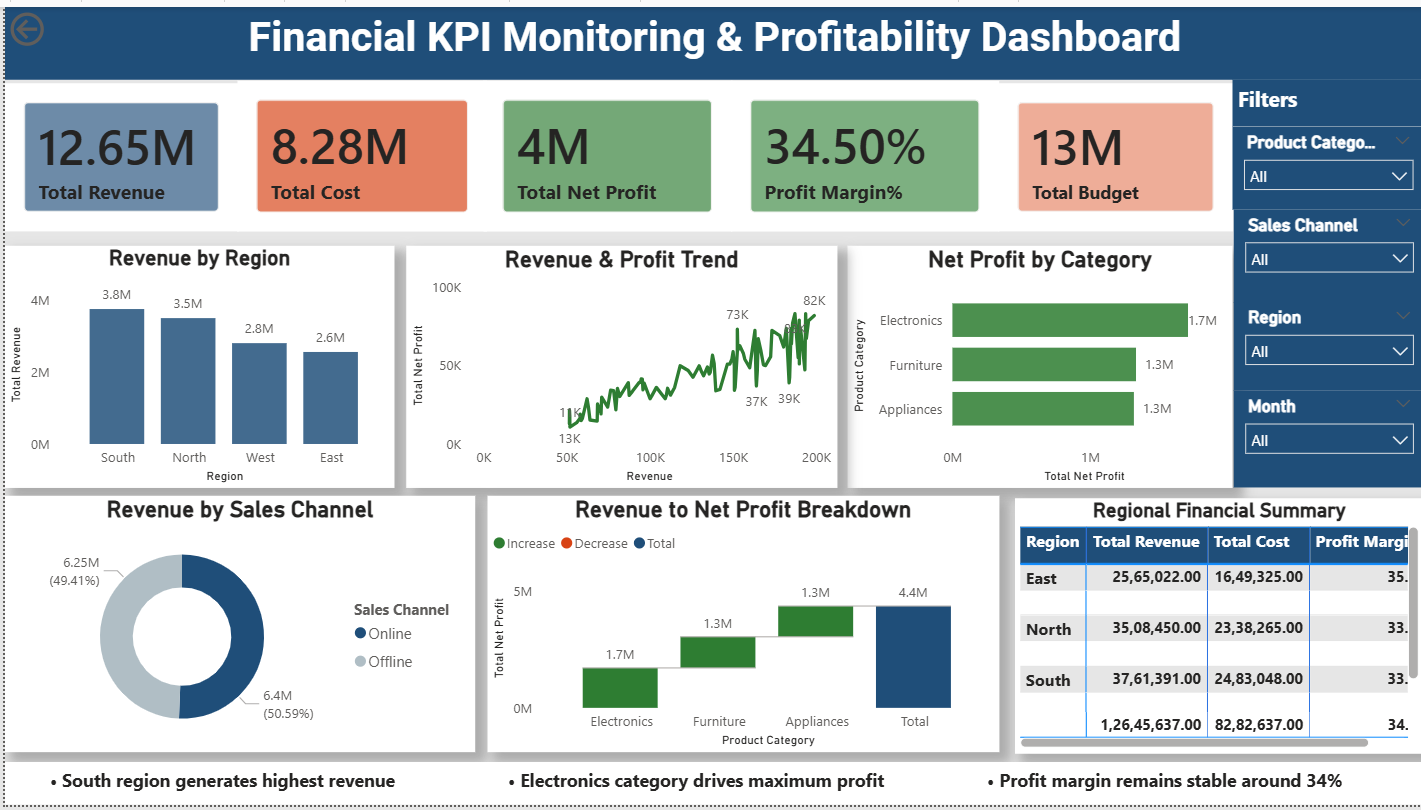

What the dashboard file says about the page in this screenshot:
{"tool":"powerbi","page":{"name":"Page 1","canvas":[1280,720],"ordinal":0},"visuals":[{"type":"textbox","box":[0,0,1280.3,65.9],"z":0},{"type":"cardVisual","fields":{"Data":["Financial_Data.Total Revenue"]},"box":[0,68.8,210,133.8],"z":1000},{"type":"cardVisual","fields":{"Data":["Financial_Data.Total Net Profit"]},"box":[431.2,66.2,223.8,136.2],"z":2000},{"type":"cardVisual","fields":{"Data":["Financial_Data.Profit Margin % Measure"]},"box":[655,66.2,241.2,136.2],"z":3000},{"type":"cardVisual","fields":{"Data":["Financial_Data.Total Cost"]},"box":[210,66.2,225,136.2],"z":4000},{"type":"cardVisual","fields":{"Data":["Financial_Data.Total Budgeted Revenue"]},"box":[896.2,68.8,211.2,133.8],"z":5000},{"type":"clusteredColumnChart","title":" Revenue by Region","fields":{"Category":["Financial_Data.Region"],"Y":["Financial_Data.Total Revenue"]},"box":[0,215,351.2,218.8],"z":6000},{"type":"barChart","title":" Net Profit by Category","fields":{"Category":["Financial_Data.Product Category"],"Y":["Financial_Data.Total Net Profit"]},"box":[760,215,347.5,218.8],"z":7000},{"type":"lineChart","title":" Revenue & Profit Trend","fields":{"Y":["Financial_Data.Total Net Profit"],"Category":["Financial_Data.Revenue"]},"box":[361.2,215,388.8,218.8],"z":8000},{"type":"donutChart","title":" Revenue by Sales Channel","fields":{"Category":["Financial_Data.Sales Channel"],"Y":["Financial_Data.Total Revenue"]},"box":[0,441.2,423.8,231.2],"z":9000},{"type":"waterfallChart","title":"Revenue to Net Profit Breakdown","fields":{"Category":["Financial_Data.Product Category"],"Y":["Financial_Data.Total Net Profit"]},"box":[435,441.2,461.2,231.2],"z":10000},{"type":"slicer","fields":{"Values":["Financial_Data.Region"]},"box":[1107.5,266.2,172.5,80],"z":11000},{"type":"slicer","fields":{"Values":["Financial_Data.Product Category"]},"box":[1107.4,108.4,172.9,74.1],"z":12000},{"type":"slicer","fields":{"Values":["Financial_Data.Month"]},"box":[1107.5,346.2,172.5,87.5],"z":13000},{"type":"slicer","fields":{"Values":["Financial_Data.Sales Channel"]},"box":[1107.5,182.5,172.5,83.8],"z":14000},{"type":"textbox","box":[1107.4,65.9,172.9,42.5],"z":15000},{"type":"pivotTable","title":"Regional Financial Summary","fields":{"Rows":["Financial_Data.Region"],"Values":["Financial_Data.Total Revenue","Financial_Data.Total Cost","Financial_Data.Profit Margin % Measure"]},"box":[911.2,442.5,368.8,230],"z":16000},{"type":"actionButton","box":[0,0,100,40],"z":17000},{"type":"textbox","box":[0,681.2,1280,38.8],"z":17001}]}

Visuals, with their boxes in screenshot pixels (x1, y1, x2, y2), scaled from the page's 1280x720 canvas onto the 1421x810 screenshot:
textbox: 0, 0, 1420, 74
cardVisual - Financial_Data.Total Revenue: 0, 77, 233, 228
cardVisual - Financial_Data.Total Net Profit: 479, 74, 727, 228
cardVisual - Financial_Data.Profit Margin % Measure: 727, 74, 995, 228
cardVisual - Financial_Data.Total Cost: 233, 74, 483, 228
cardVisual - Financial_Data.Total Budgeted Revenue: 995, 77, 1229, 228
" Revenue by Region" clusteredColumnChart: 0, 242, 390, 488
" Net Profit by Category" barChart: 844, 242, 1229, 488
" Revenue & Profit Trend" lineChart: 401, 242, 833, 488
" Revenue by Sales Channel" donutChart: 0, 496, 470, 756
"Revenue to Net Profit Breakdown" waterfallChart: 483, 496, 995, 756
slicer - Financial_Data.Region: 1229, 299, 1420, 389
slicer - Financial_Data.Product Category: 1229, 122, 1420, 205
slicer - Financial_Data.Month: 1229, 389, 1420, 488
slicer - Financial_Data.Sales Channel: 1229, 205, 1420, 300
textbox: 1229, 74, 1420, 122
"Regional Financial Summary" pivotTable: 1012, 498, 1420, 757
actionButton: 0, 0, 111, 45
textbox: 0, 766, 1420, 809
